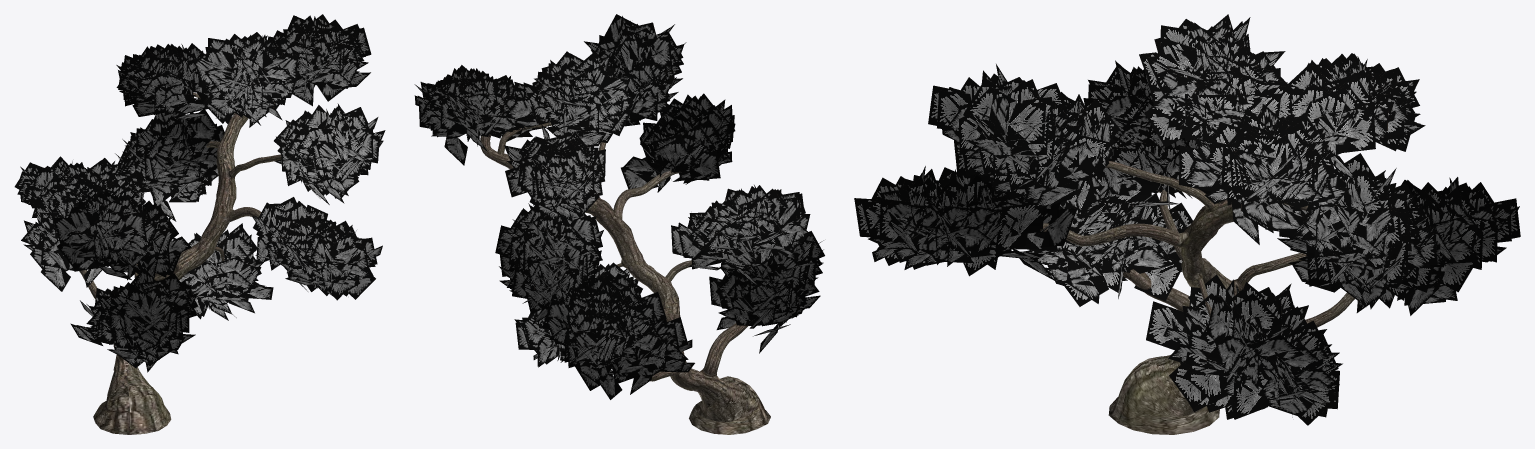
Rendered from tree_pine.glb.
The picture shows the model from 3 angles, left to right: view 1: azimuth 30°, elevation 25°; view 2: azimuth 150°, elevation 25°; view 3: azimuth 270°, elevation 25°; orthographic projection. The views are drawn at different scales.
Visible parts, largest first — view 1: tree_pine; view 2: tree_pine; view 3: tree_pine.
Part boxes in pixels (left/top/right/bottom): tree_pine: left=14, top=14, right=385, bottom=434; tree_pine: left=414, top=14, right=824, bottom=434; tree_pine: left=854, top=14, right=1520, bottom=434.
Size of the model in its own units: 8.05 by 7.5 by 9.52.
Materials: 1 (1 with a texture image).
